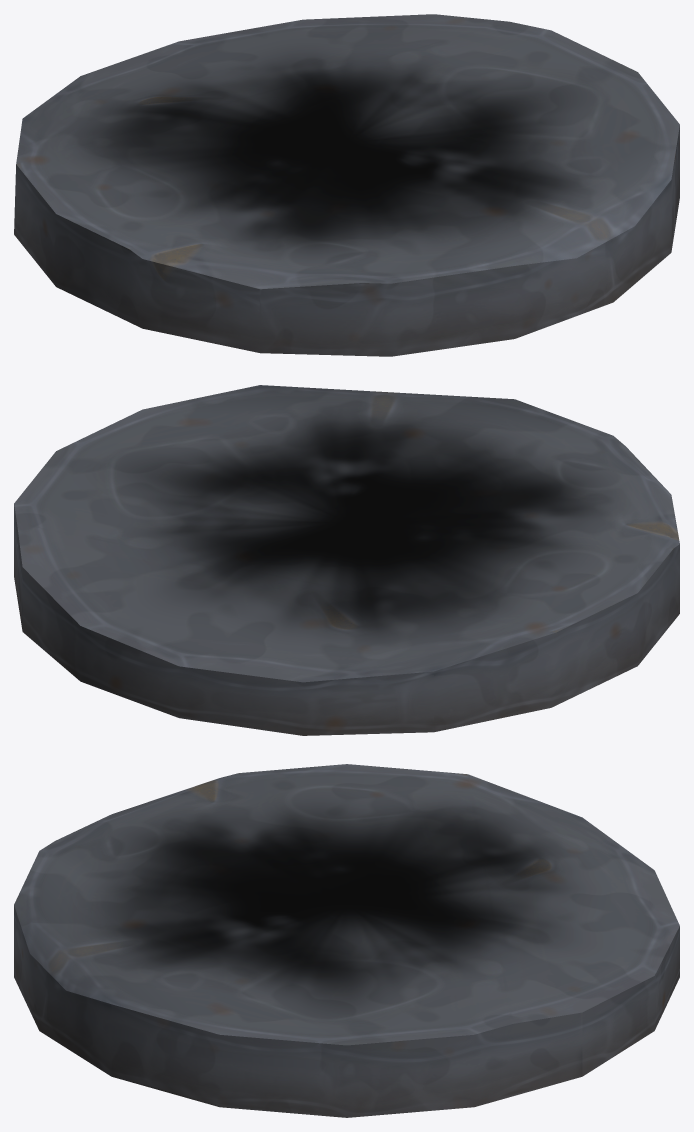
File: PotHolder.fbx
3 views of the same model, one above another, from view 1: azimuth 30°, elevation 25°; view 2: azimuth 150°, elevation 25°; view 3: azimuth 270°, elevation 25° (orthographic).
Parts seen in each view (by area): view 1: U_PotHolder; view 2: U_PotHolder; view 3: U_PotHolder.
Part boxes in pixels (box(x1,y1,x2,y2)): U_PotHolder: box(14, 14, 679, 356); U_PotHolder: box(14, 385, 679, 735); U_PotHolder: box(14, 764, 679, 1117).
Size of the model in its own units: 184 by 22.12 by 184.
1 material, 1 textured.
